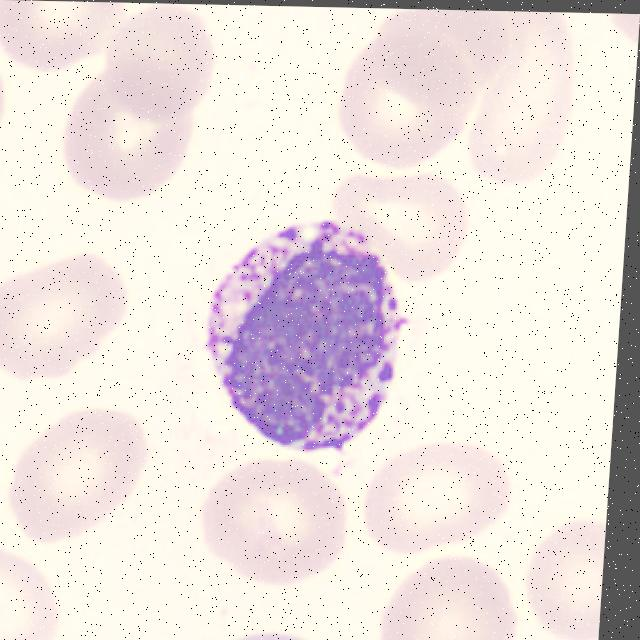basophil: (188, 215, 427, 455)
rbc: (186, 444, 357, 584), (350, 432, 527, 564), (3, 406, 162, 550), (54, 48, 193, 202), (468, 11, 591, 184), (0, 245, 140, 390), (315, 160, 477, 285), (331, 37, 474, 170), (98, 2, 230, 123), (373, 547, 524, 640), (367, 9, 512, 104), (519, 518, 606, 640), (0, 0, 126, 81), (0, 540, 76, 640), (188, 617, 340, 640), (0, 407, 15, 536), (597, 13, 640, 52), (0, 71, 14, 131)
